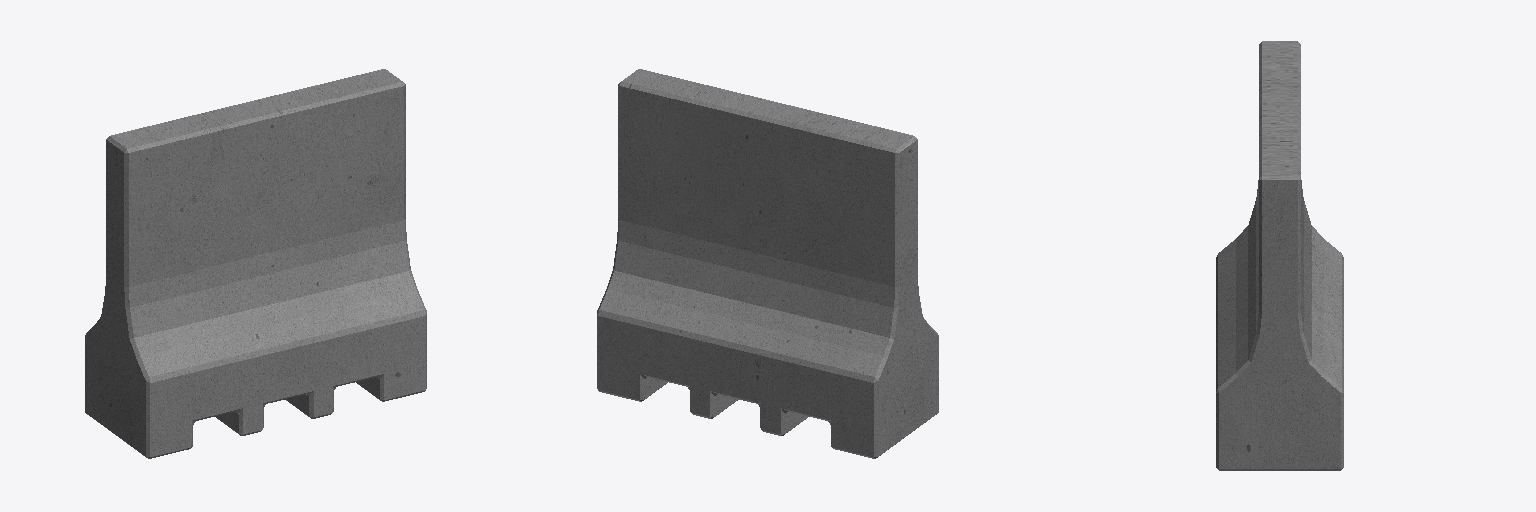
3 views of the same model, side by side, from view 1: azimuth 30°, elevation 25°; view 2: azimuth 150°, elevation 25°; view 3: azimuth 270°, elevation 25° (orthographic).
Visible parts, largest first — view 1: Road Block.003; view 2: Road Block.003; view 3: Road Block.003.
Part boxes in pixels (x1,y1,x2,y2): Road Block.003: (85, 69, 426, 458); Road Block.003: (597, 69, 938, 458); Road Block.003: (1216, 41, 1343, 470).
Bounding box in the file's own units: 0.972 × 0.972 × 0.3844.
1 materials, 1 textured.